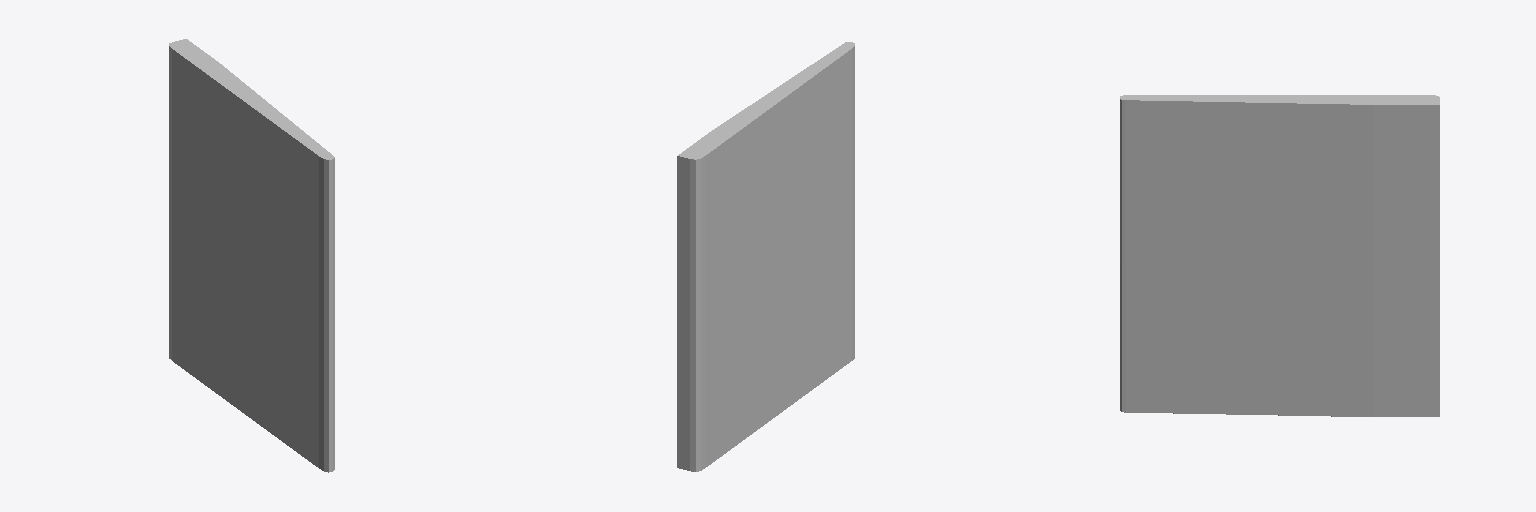
Rendered from Cart_pocket_collision_6.obj.
3 views of the same model, side by side, from view 1: azimuth 30°, elevation 25°; view 2: azimuth 150°, elevation 25°; view 3: azimuth 270°, elevation 25° (orthographic).
Size of the model in its own units: 0.0243 by 0.3445 by 0.32.